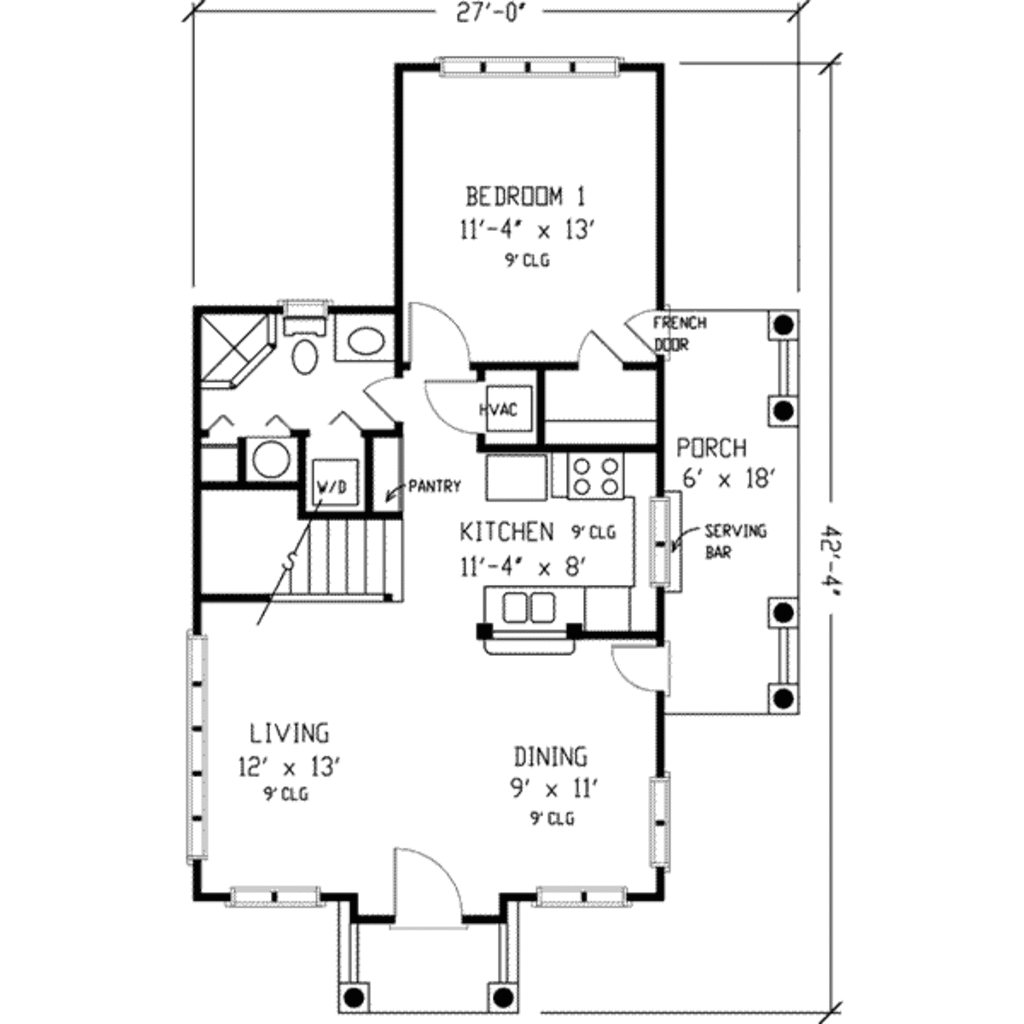door: (371, 841, 478, 925), (399, 298, 482, 366), (621, 300, 690, 373), (615, 641, 686, 698), (431, 376, 491, 436), (361, 374, 402, 428), (575, 319, 617, 371)
large_sink: (272, 300, 318, 387)
small_sink: (329, 311, 402, 360)
stairs: (198, 485, 421, 622)
twin_sink: (480, 578, 585, 639)
window: (174, 628, 220, 879), (645, 489, 698, 601), (531, 874, 636, 916), (217, 878, 331, 916), (640, 773, 678, 876)
